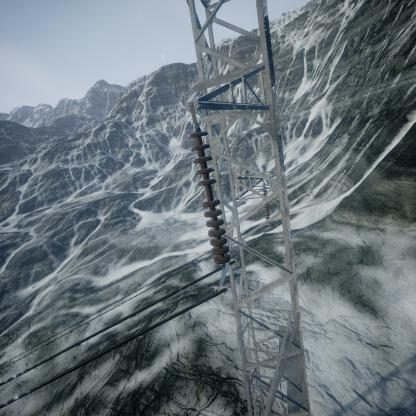insulator: (186, 122, 230, 264)
